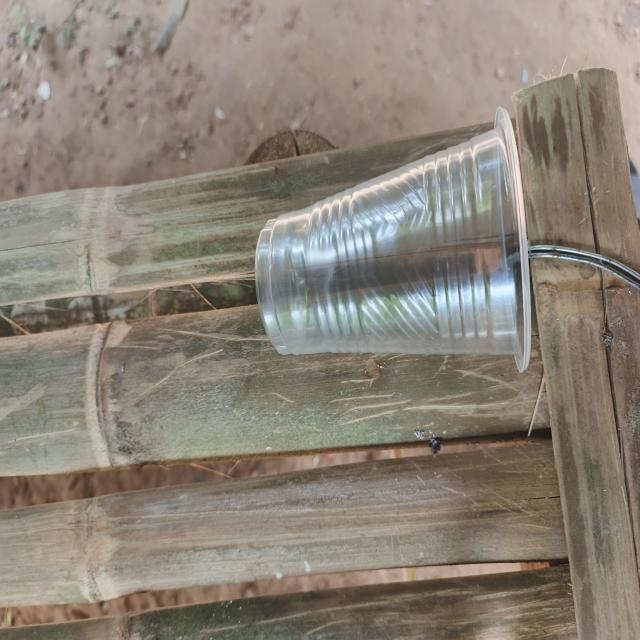plastic: (246, 98, 554, 388)
